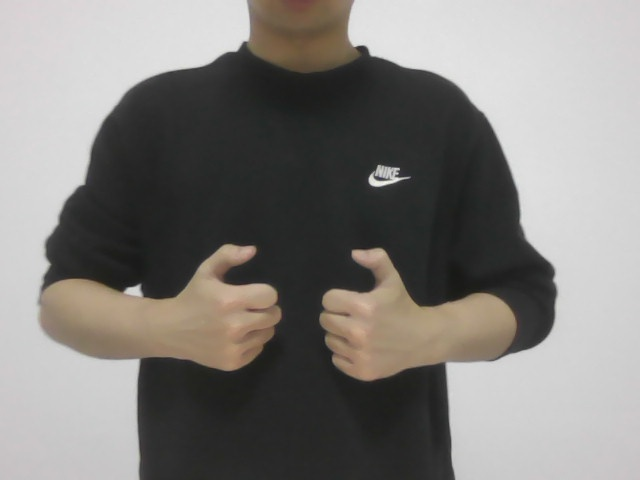marry/wife: (159, 221, 426, 388)
